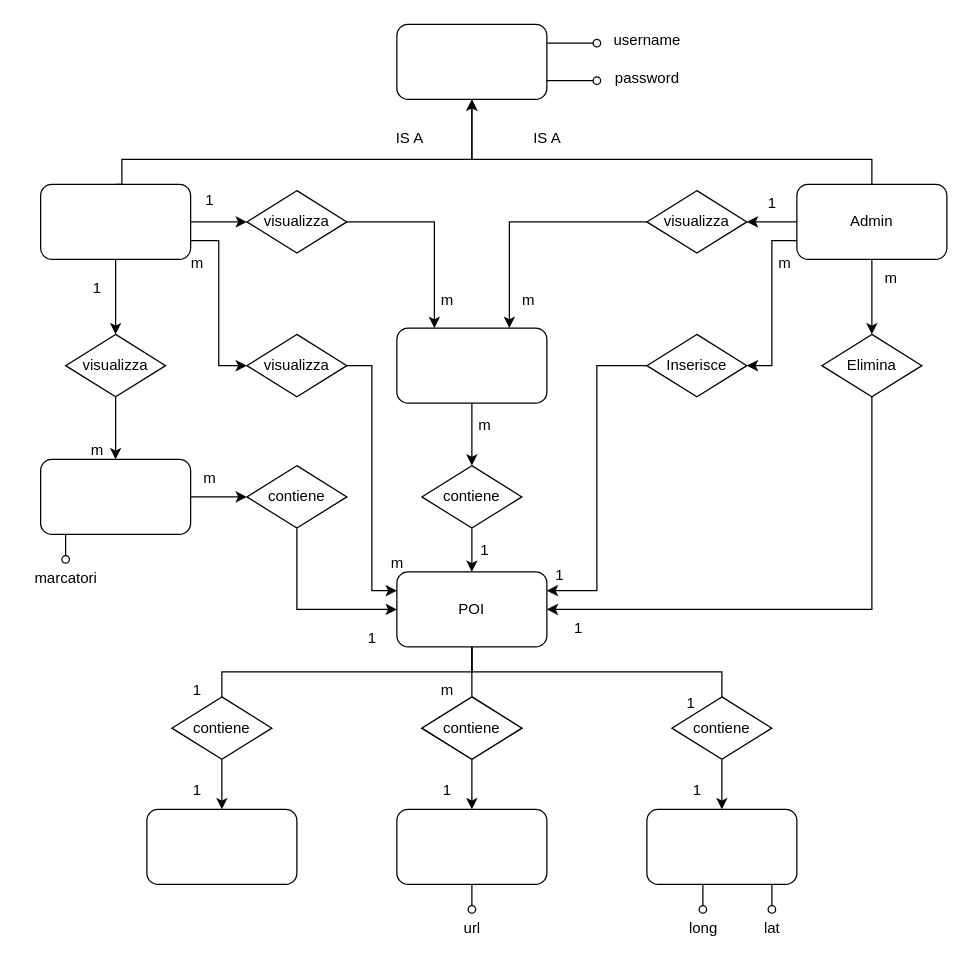
The diagram is 969 pixels wide and 968 high, and some of its shapes have lost their labels. Here are the shapes that lost their labels. From the top down, the box of each, then its label:
(396, 23, 547, 99): User
(39, 183, 191, 259): Utente
(396, 327, 547, 403): Lista POI
(39, 458, 191, 534): Mappa
(146, 808, 297, 884): Descrizione
(396, 808, 547, 884): Immagine
(646, 808, 797, 884): Coordinate
